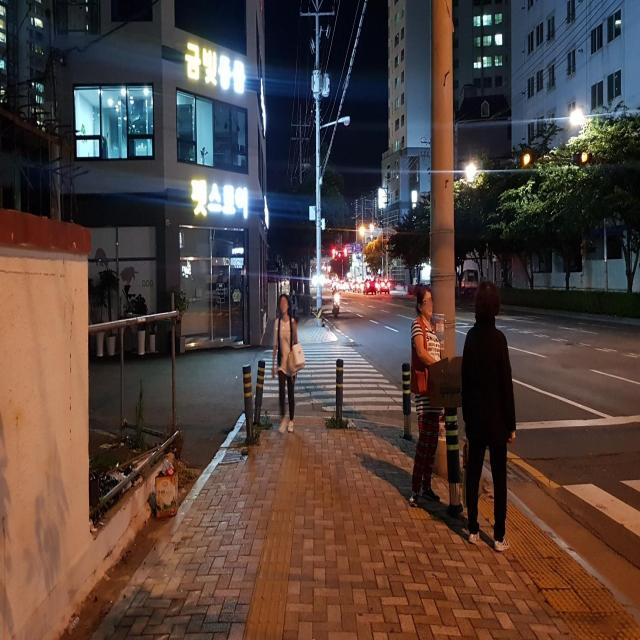횡단보도: (252, 342, 418, 412)
